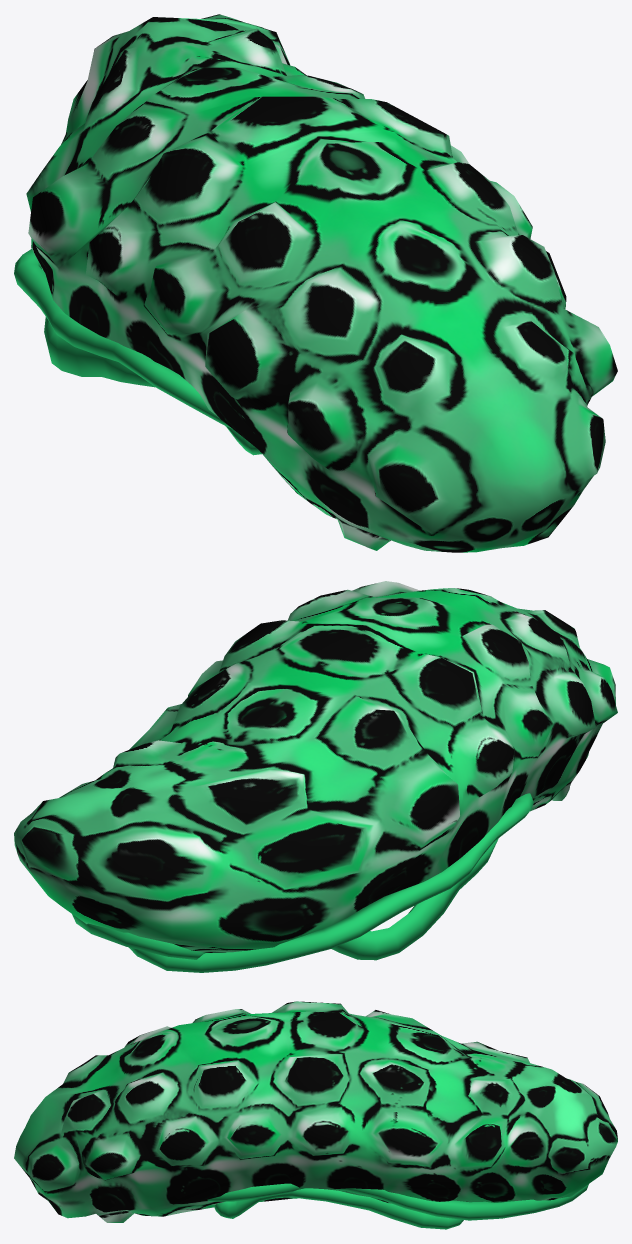
File: Bug_all.FBX
3 renders of one model, top to bottom at view 1: azimuth 30°, elevation 25°; view 2: azimuth 150°, elevation 25°; view 3: azimuth 270°, elevation 25°, orthographic. The views are drawn at different scales.
Visible parts, largest first — view 1: Bug; view 2: Bug; view 3: Bug.
Boxes of the visible parts, <box> form: Bug: <box>14,14,617,552</box>; Bug: <box>14,581,617,972</box>; Bug: <box>14,1001,617,1229</box>.
Bounding box in the file's own units: 0.8693 × 0.6282 × 1.88.
1 material, 1 textured.
